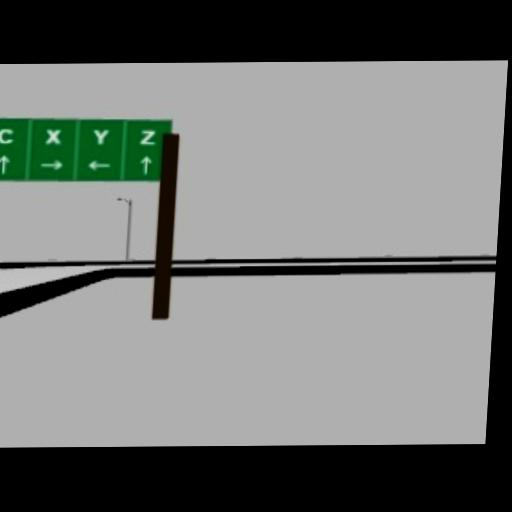C: (0, 127, 15, 145)
Left: (87, 160, 111, 171)
Right: (39, 160, 63, 171)
Straight: (140, 155, 153, 174), (0, 155, 10, 174)
X: (45, 128, 62, 145)
Y: (92, 129, 110, 145)
Z: (138, 130, 157, 146)
